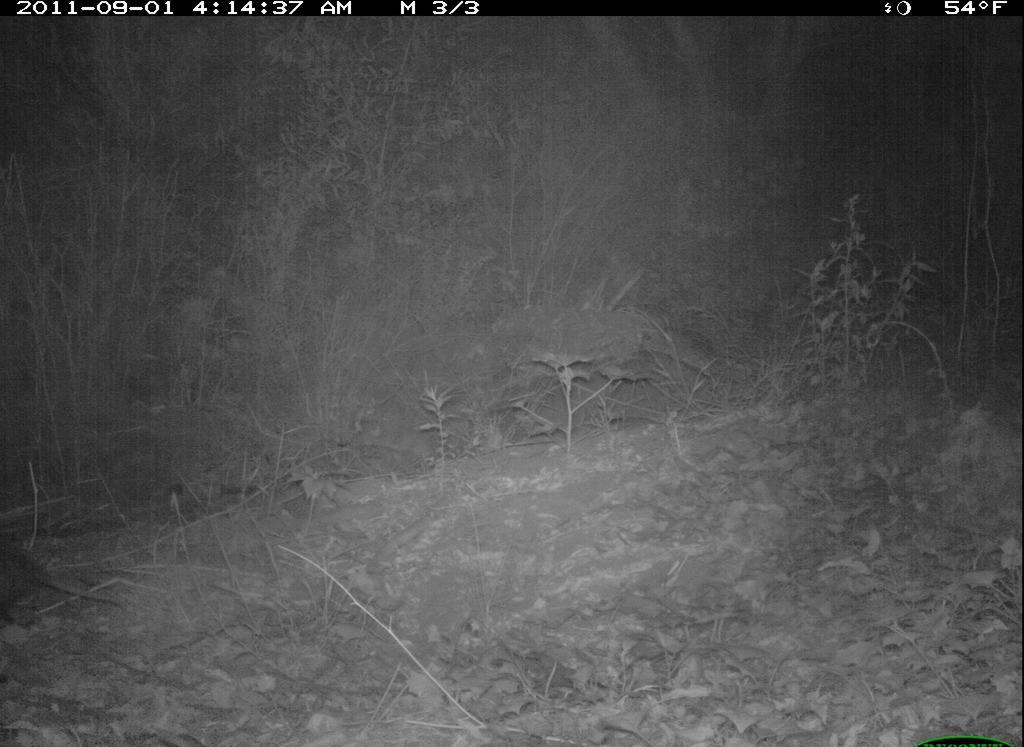opossum: (1, 543, 136, 625)
